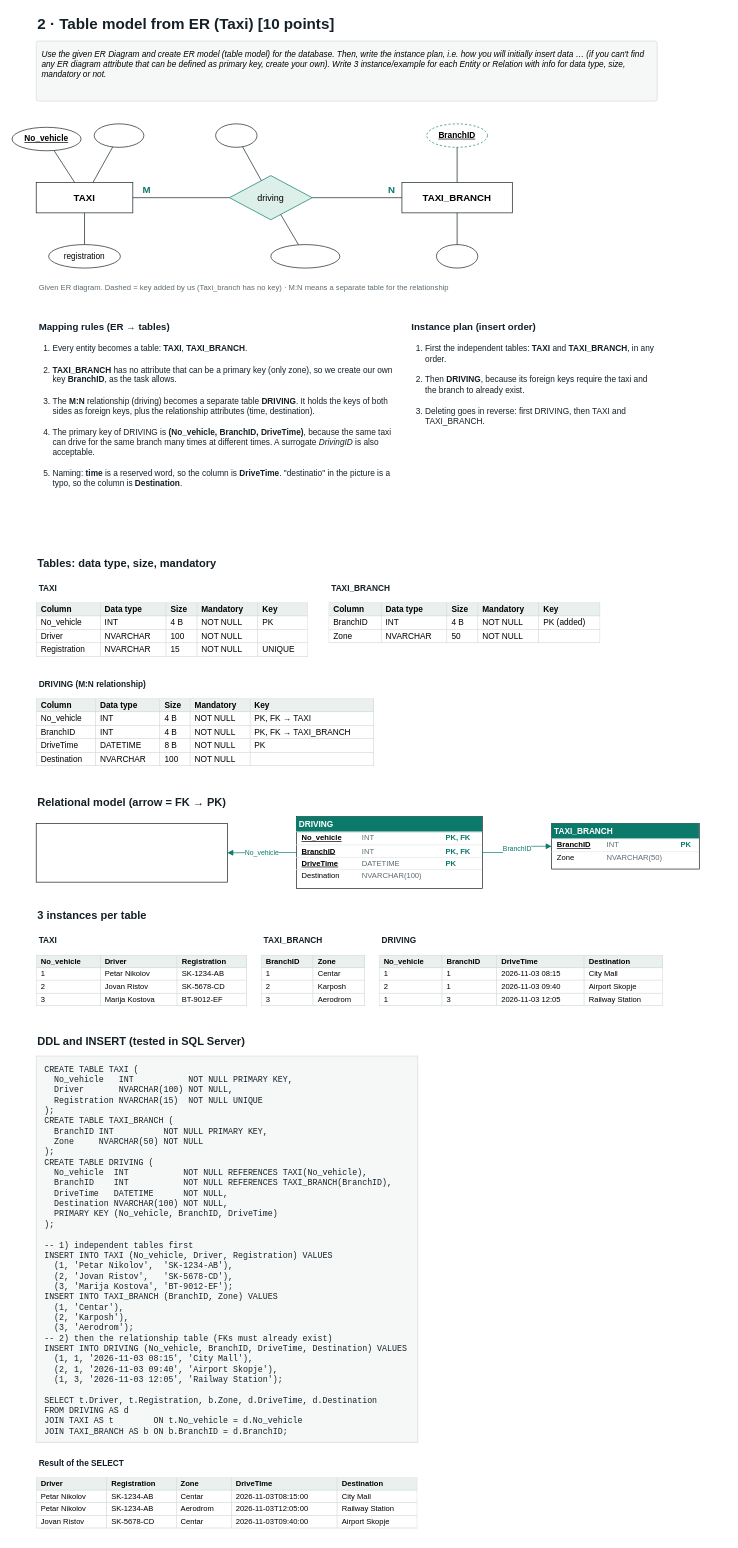
The diagram is 738 pixels wide and 1548 high, and some of its shapes have lost their labels. The box of each missing label's shape, as (x1, y1, x2, y2) in pixels:
destination: (270, 244, 340, 268)
driver: (93, 123, 144, 147)
TAXI No_vehicle INT PK Driver NVARCHAR(100) Registration NVARCHAR(15) UNIQUE: (36, 823, 227, 882)
time: (215, 123, 257, 147)
zone: (436, 244, 478, 268)
